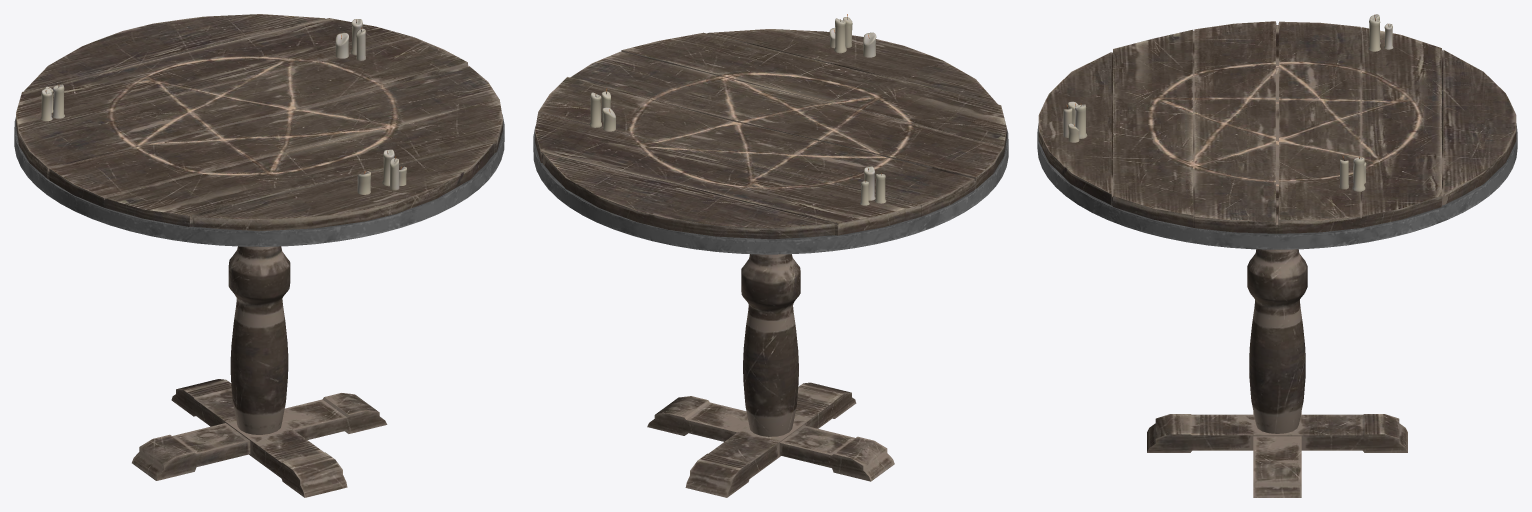
Rendered from table-antique.glb.
3 renders of one model, left to right at view 1: azimuth 30°, elevation 25°; view 2: azimuth 150°, elevation 25°; view 3: azimuth 270°, elevation 25°, orthographic. The views are drawn at different scales.
Visible parts, largest first — view 1: kolco_low.001; view 2: kolco_low.001; view 3: kolco_low.001.
Boxes of the visible parts, x1,y1,x2,y2 form: kolco_low.001: (14,14,504,497); kolco_low.001: (533,14,1008,497); kolco_low.001: (1037,14,1517,497).
Size of the model in its own units: 3.79 by 3.07 by 3.79.
1 material, 1 textured.
